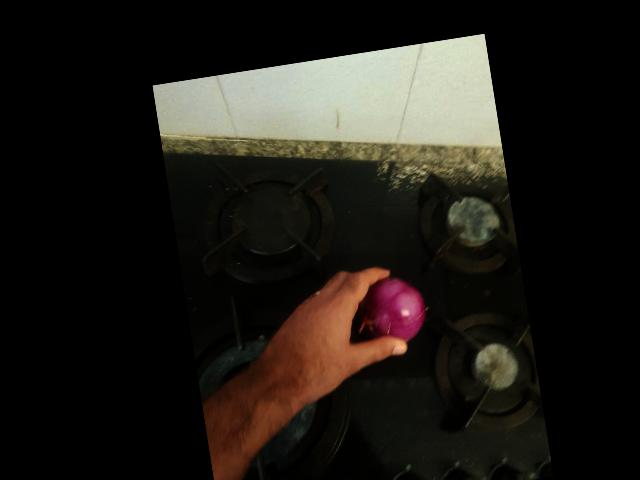onion: (390, 136, 468, 214)
